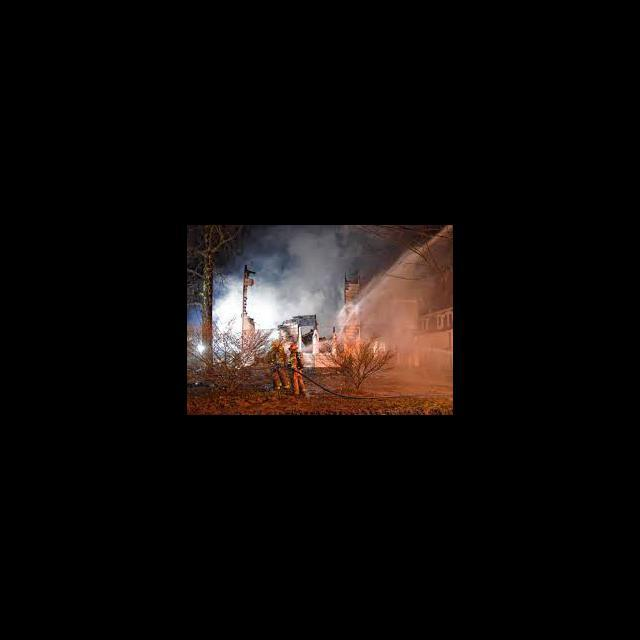Smoke: (352, 250, 444, 384), (217, 236, 342, 328)
